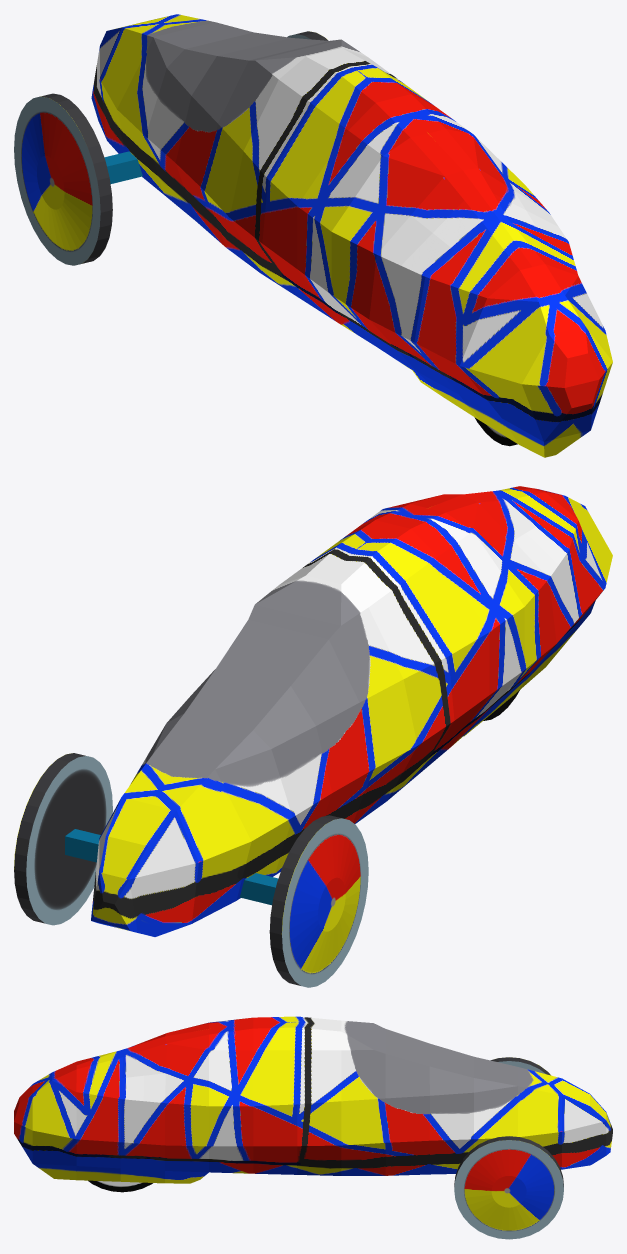
File: qfctcar.fbx
3 views of the same model, one above another, from view 1: azimuth 30°, elevation 25°; view 2: azimuth 150°, elevation 25°; view 3: azimuth 270°, elevation 25° (orthographic). The views are drawn at different scales.
Visible parts, largest first — view 1: Cylinder; view 2: Cylinder; view 3: Cylinder.
Boxes of the visible parts, bbox=[...] form: Cylinder: bbox=[14, 14, 612, 457]; Cylinder: bbox=[14, 486, 612, 987]; Cylinder: bbox=[14, 1016, 612, 1239].
Size of the model in its own units: 329 by 311 by 960.
1 material, 1 textured.
